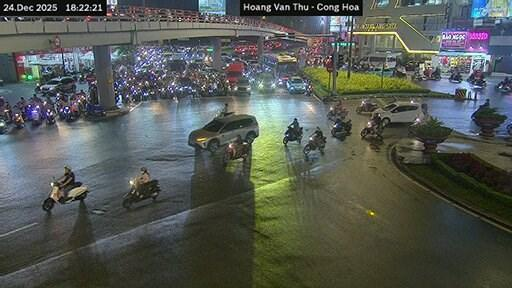motorbike: (41, 181, 86, 210), (122, 179, 160, 207), (221, 143, 249, 163), (330, 118, 351, 138), (304, 135, 325, 153), (282, 126, 301, 144), (359, 121, 383, 135), (355, 99, 377, 112), (408, 117, 423, 135), (326, 107, 346, 120), (29, 104, 41, 124), (86, 103, 105, 115), (60, 106, 74, 120), (467, 77, 486, 86), (44, 108, 54, 124), (495, 81, 511, 90), (13, 113, 24, 126), (425, 72, 441, 80), (410, 72, 426, 79), (448, 73, 461, 81), (0, 117, 6, 133), (505, 121, 511, 134), (35, 82, 41, 93), (306, 84, 312, 94)
